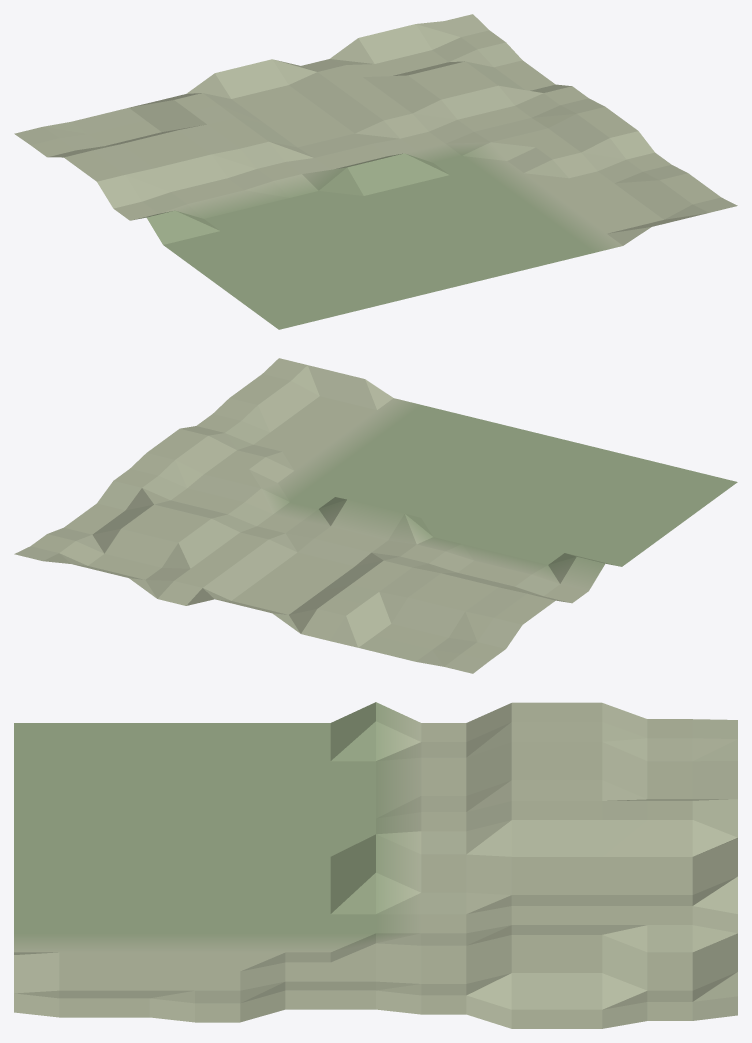
The picture shows the model from 3 angles, top to bottom: view 1: azimuth 30°, elevation 25°; view 2: azimuth 150°, elevation 25°; view 3: azimuth 270°, elevation 25°; orthographic projection. The views are drawn at different scales.
Bounding box in the file's own units: 32 × 1.1 × 32.
